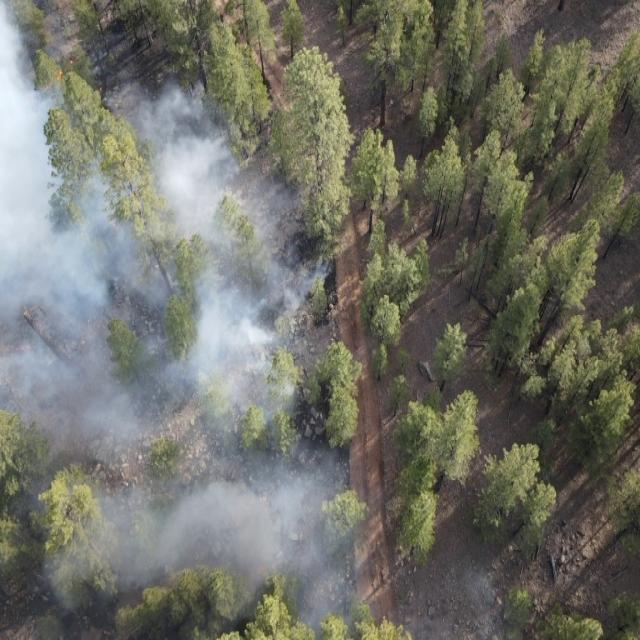fire: (43, 54, 81, 86), (256, 565, 267, 579), (98, 86, 105, 94)
smoke: (0, 252, 347, 640), (96, 76, 304, 252), (0, 0, 96, 254)
